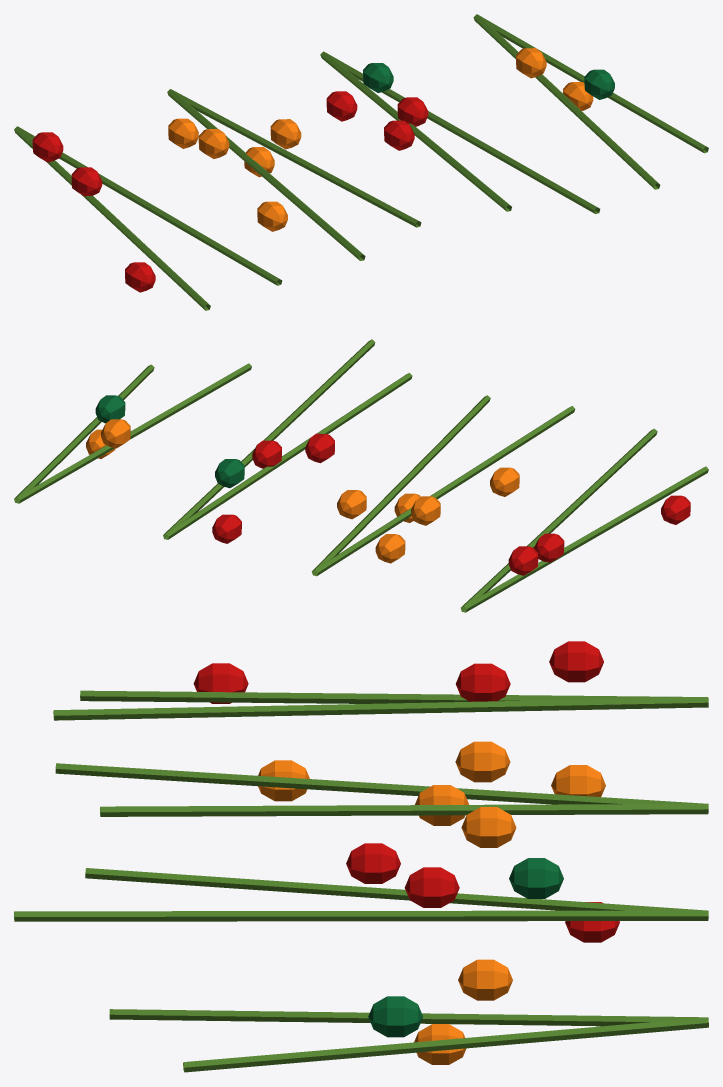
File: r10c2_stems.obj
3 renders of one model, top to bottom at view 1: azimuth 30°, elevation 25°; view 2: azimuth 150°, elevation 25°; view 3: azimuth 270°, elevation 25°, orthographic. The views are drawn at different scales.
Visible parts, largest first — view 1: r10c2_stems; view 2: r10c2_stems; view 3: r10c2_stems.
Part boxes in pixels (x1=…): r10c2_stems: x1=14, y1=14, x2=708, y2=310; r10c2_stems: x1=14, y1=339, x2=708, y2=612; r10c2_stems: x1=14, y1=641, x2=708, y2=1072.
Size of the model in its own units: 1.7 by 0.1851 by 1.26.
